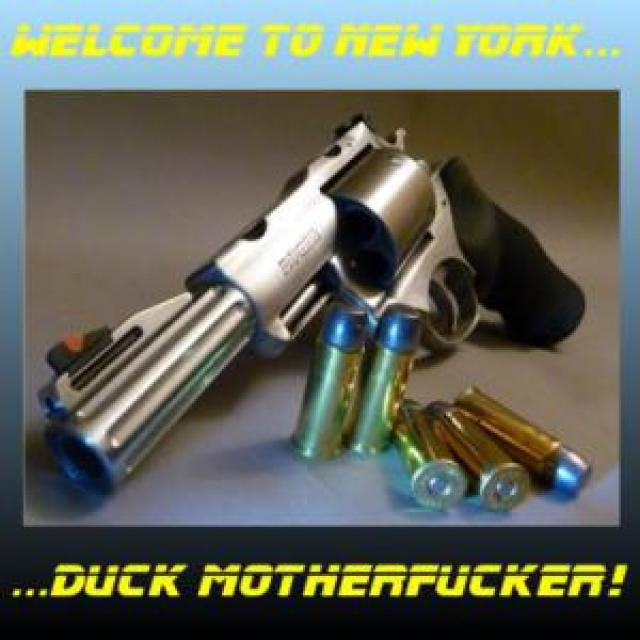pistol: (32, 134, 585, 500)
